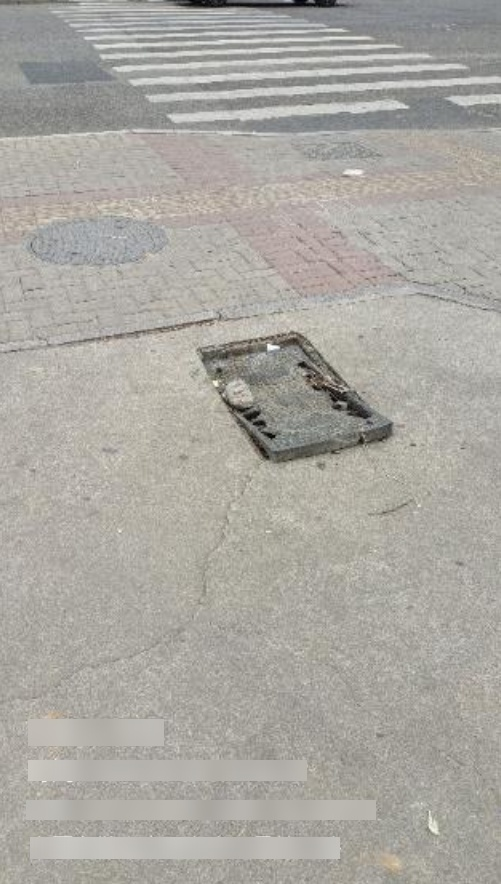broke: (197, 331, 396, 461)
good: (24, 214, 169, 266)
